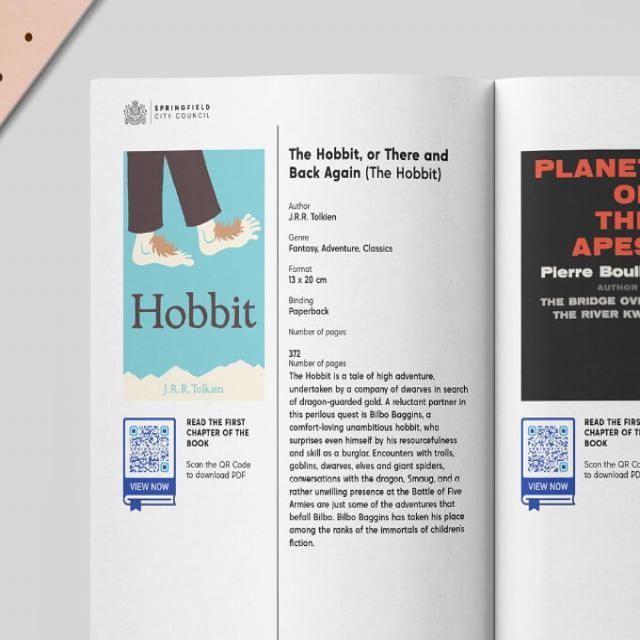qr_code: (528, 426, 568, 472), (130, 425, 169, 472)
